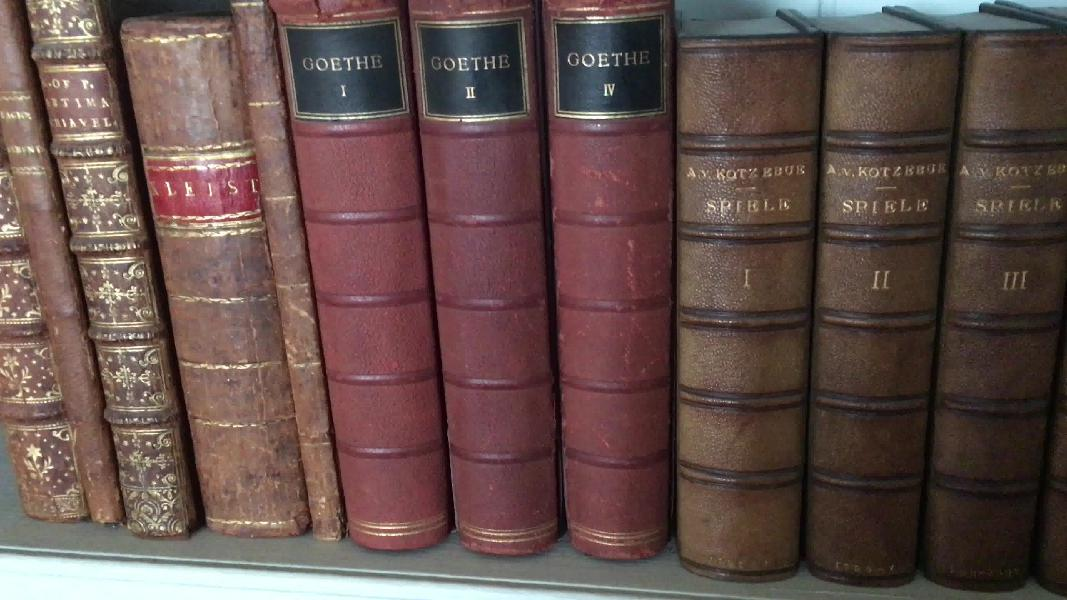Aa6-10: (230, 2, 359, 552)
Aa6-11_13: (276, 6, 674, 566)
Aa6-14_17: (676, 31, 1067, 587)
Aa6-7: (5, 62, 122, 527)
Aa6-8: (24, 4, 202, 526)
Aa6-9: (114, 20, 308, 538)
